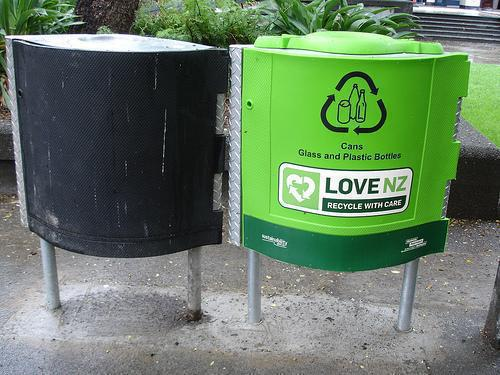Bote de Basura: (16, 22, 233, 274)
